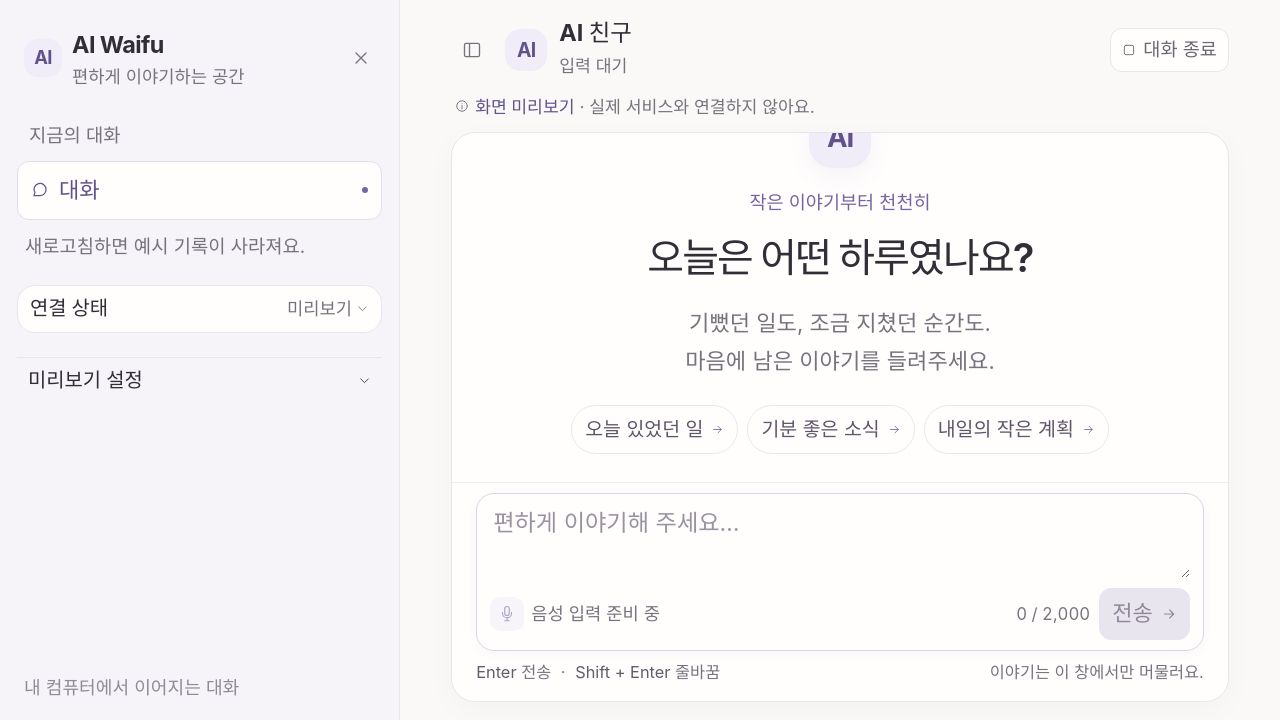
single-session screen preview › keeps the menu optional and leaves the conversation available
(page scrolled)
Step 1. Click the button named "메뉴 접기" → {"x": 472, "y": 50}, box left=451, top=29, right=493, bottom=71
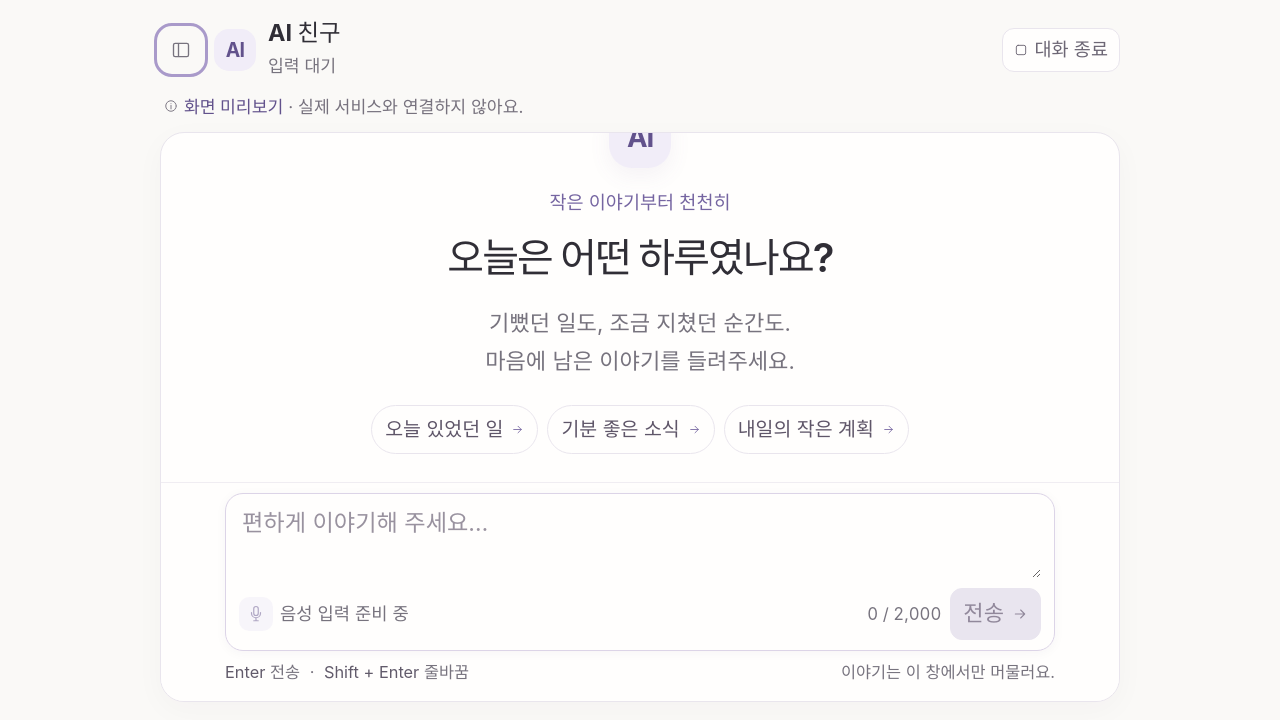
Expected: the text box named "한국어 메시지" is enabled, left=239, top=506, right=1041, bottom=578
Result: the button named "메뉴 열기" is collapsed
Step 2. Click the button named "메뉴 열기" → {"x": 181, "y": 50}, box left=160, top=29, right=202, bottom=71
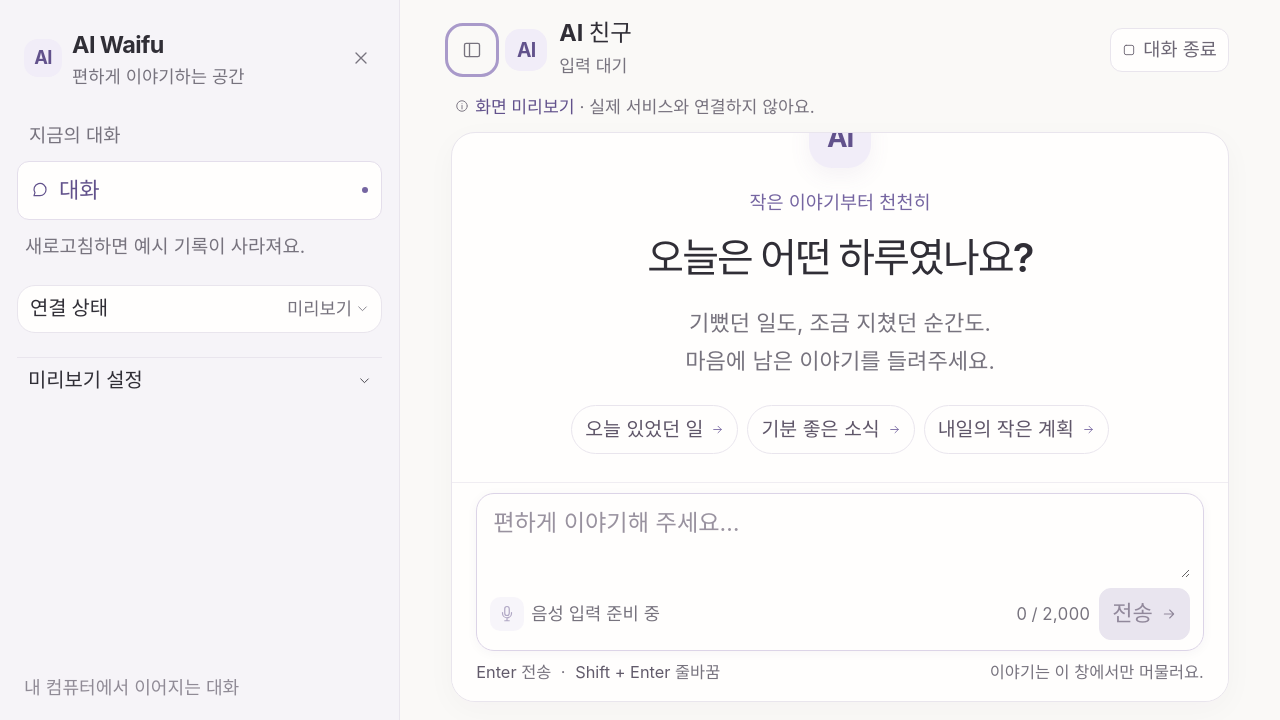
Result: the button named "메뉴 접기" is expanded at left=451, top=29, right=493, bottom=71
